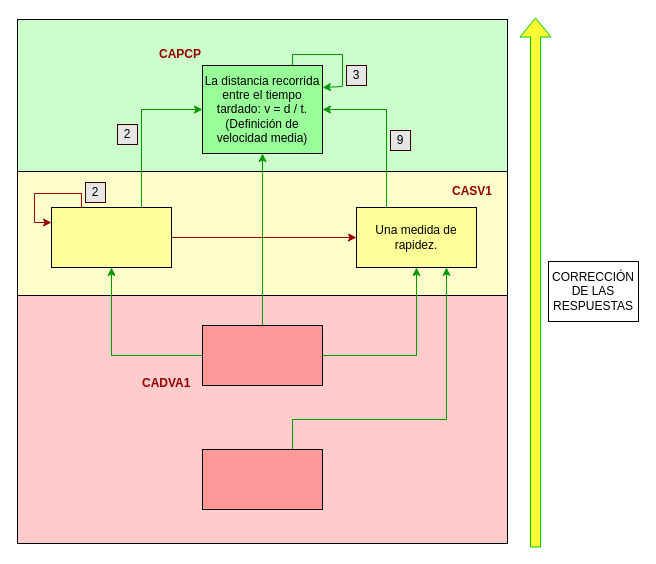
Some shapes in this 656 by 564 pixel diagram are drawn without their labels. Each missing label, with the box of its shape:
Confunde velocidad con tiempo.: (202, 324, 322, 386)
Relaciona con distancia y tiempo pero no sabe cómo.: (50, 206, 172, 268)
Una fuerza.: (202, 448, 322, 510)
